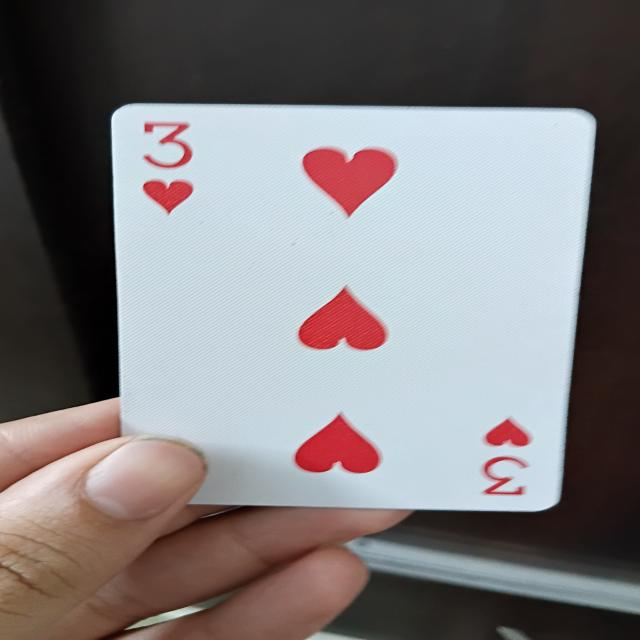3H: (109, 105, 566, 511)
